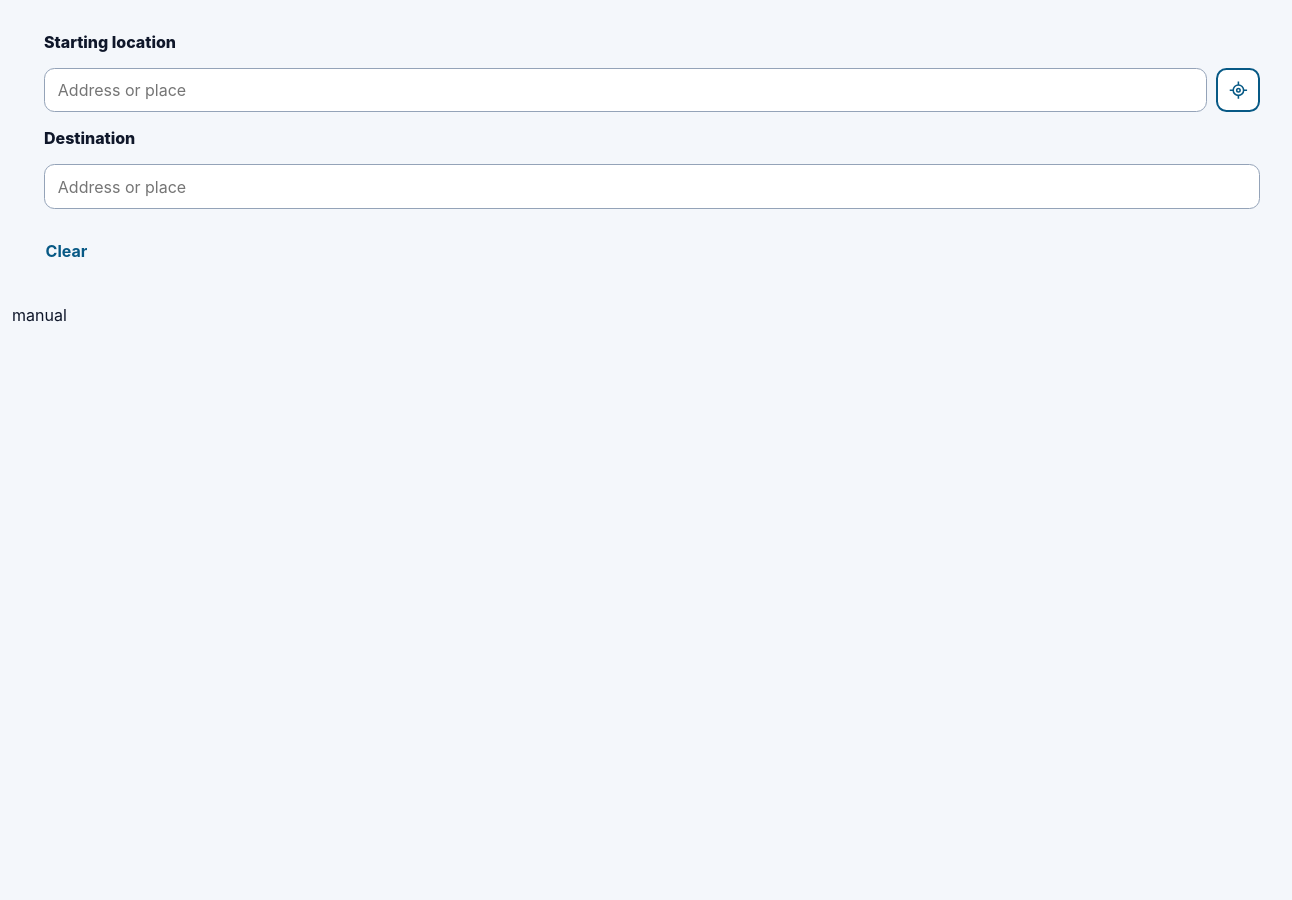
Test: TripPlanner › clears both fields, station selections and a resolved trip
Type "43.07310, -89.40120" into the dropdown labelled "Starting location" at (626, 90), box [44, 68, 1207, 112]
Then press Enter
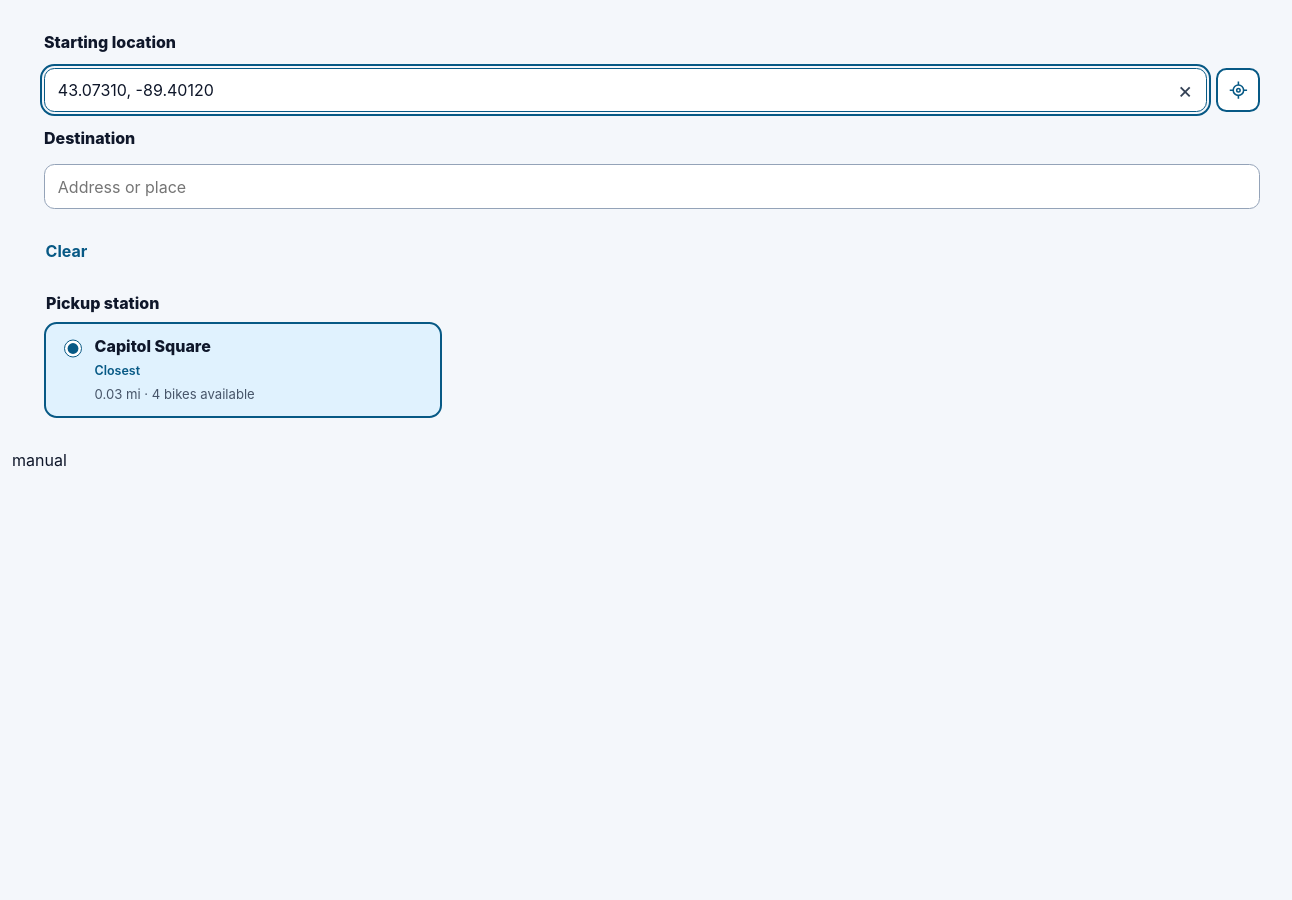
Type "43.07520, -89.39820" into the dropdown labelled "Destination" at (652, 186), box [44, 164, 1260, 209]
Then press Enter
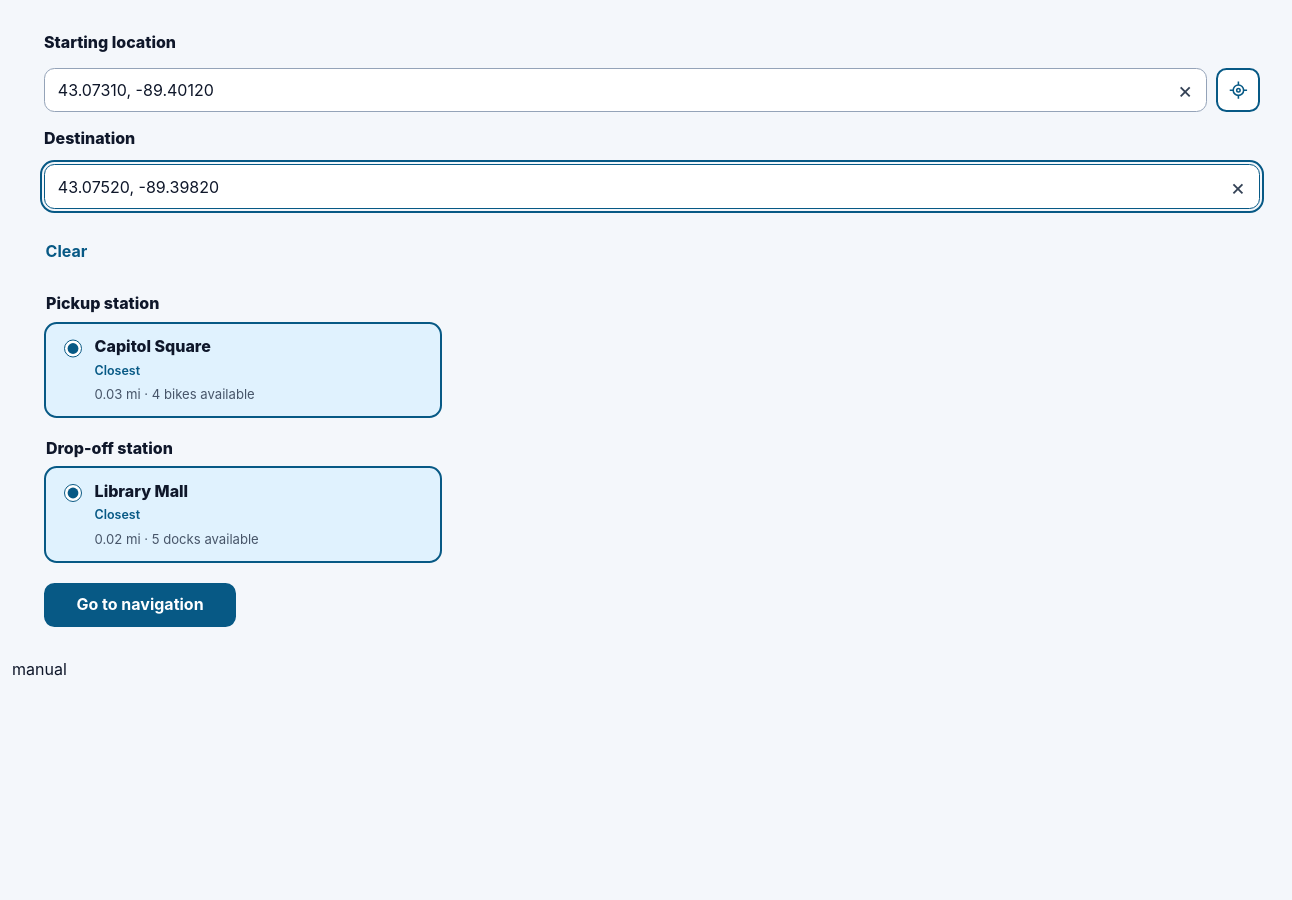
Expected: the button "Go to navigation" is shown, [44, 583, 236, 627]
Click the button "Clear" at (66, 251), box [44, 229, 89, 273]
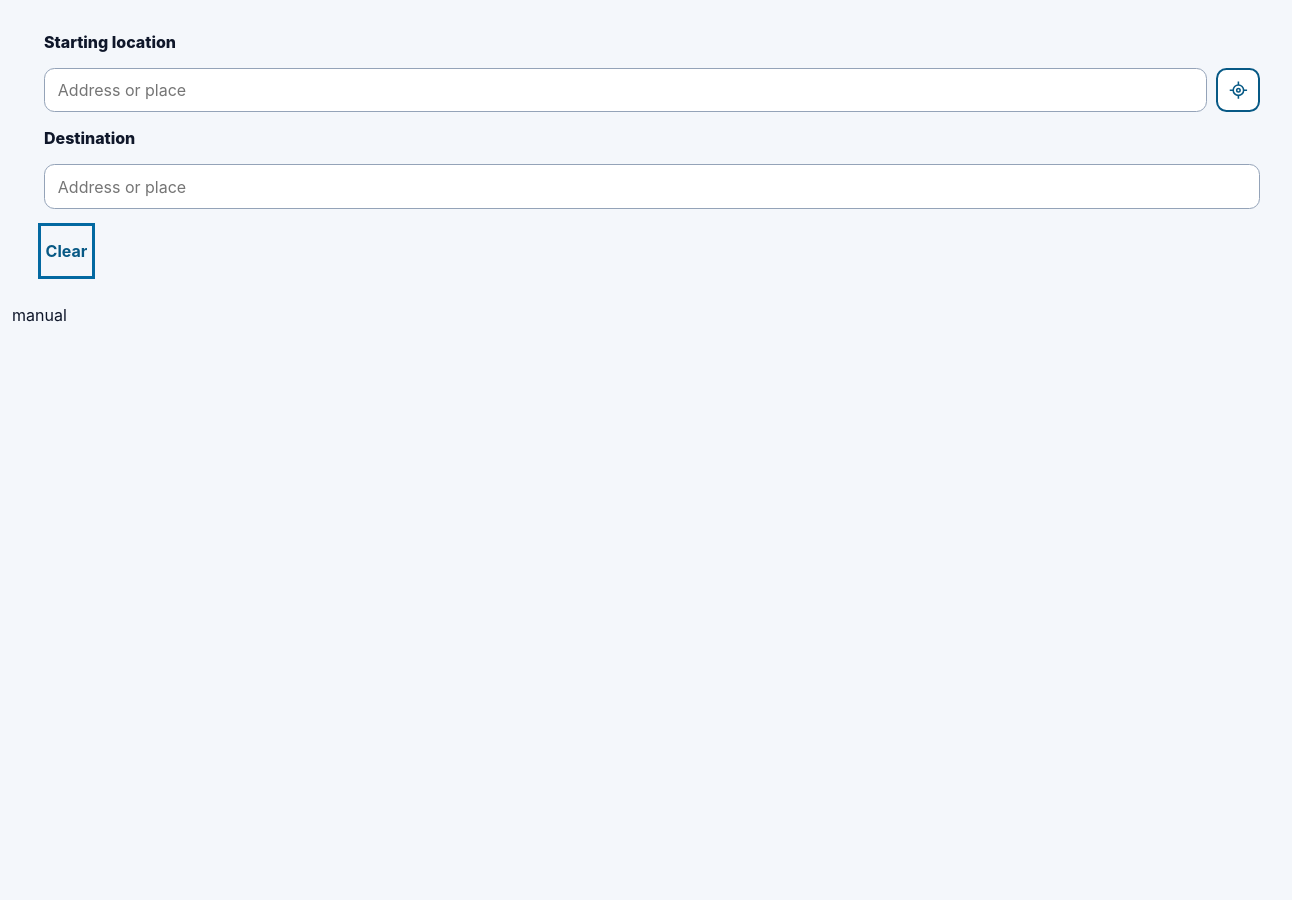
Expected: the dropdown labelled "Starting location" is empty, [44, 68, 1207, 112]
Expected: the dropdown labelled "Destination" is empty, [44, 164, 1260, 209]
Expected: the text "Pickup station" is gone
